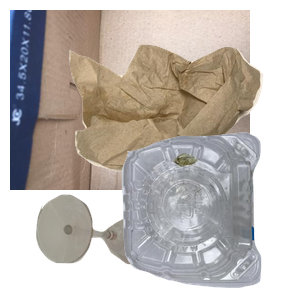cardboard: (10, 10, 250, 190)
glass: (34, 192, 187, 300)
plastic: (119, 130, 300, 300)
trash: (67, 42, 300, 206)
